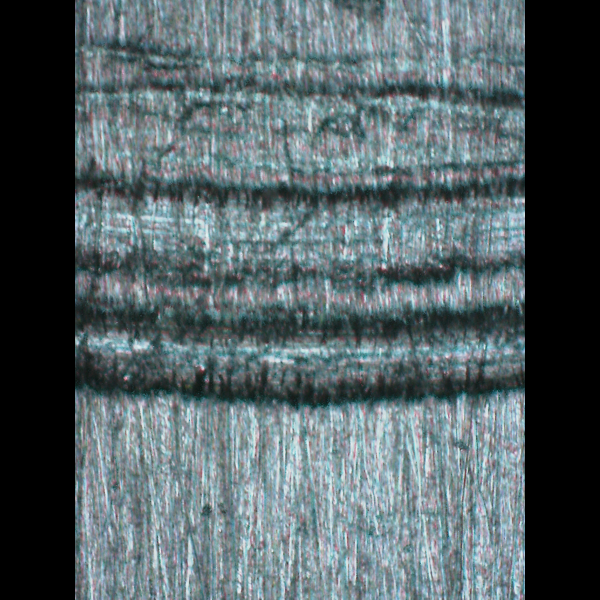d: (75, 32, 522, 433)
